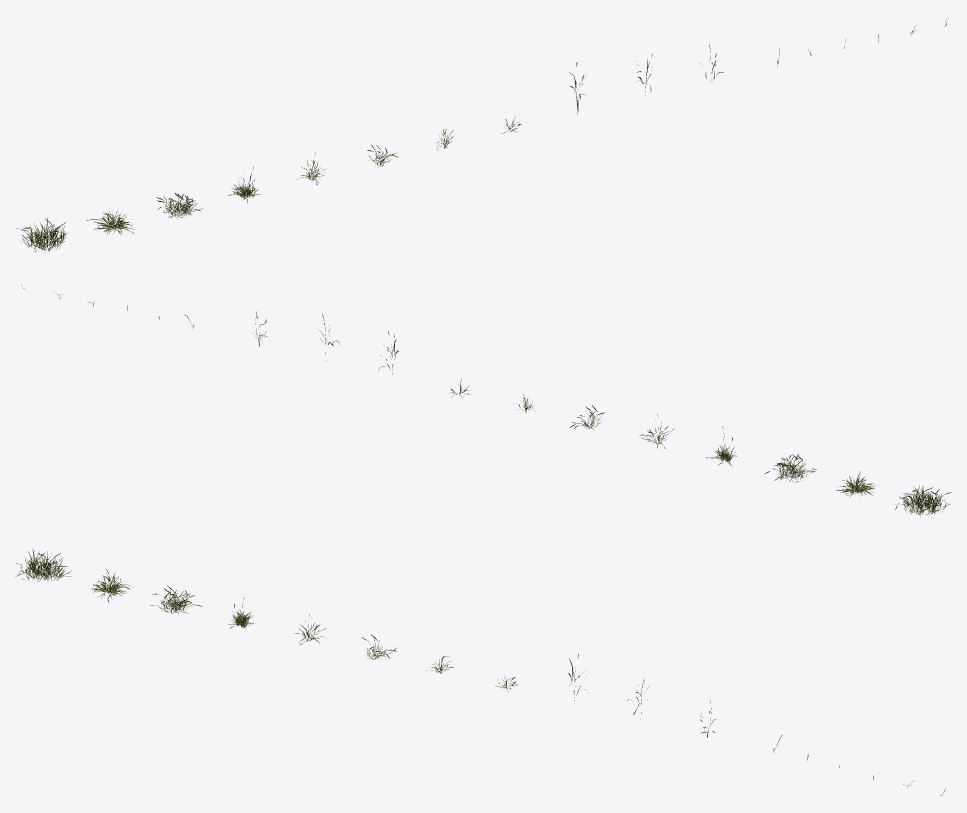
The model's file is grass_medium_01.glb.
The picture shows the model from 3 angles, top to bottom: view 1: azimuth 30°, elevation 25°; view 2: azimuth 150°, elevation 25°; view 3: azimuth 330°, elevation 25°; orthographic projection.
Visible parts, largest first — view 1: grass_medium_01_large_a_LOD0; view 2: grass_medium_01_large_a_LOD0, grass_medium_01_large_c_LOD0; view 3: grass_medium_01_large_a_LOD0.
Part boxes in pixels (bbox=[...]): grass_medium_01_large_a_LOD0: bbox=[16, 218, 67, 251]; grass_medium_01_large_a_LOD0: bbox=[895, 485, 951, 517]; grass_medium_01_large_c_LOD0: bbox=[764, 454, 816, 482]; grass_medium_01_large_a_LOD0: bbox=[15, 549, 71, 581].
Size of the model in its own units: 5.6 by 0.3384 by 0.3045.
1 material, 1 textured.
